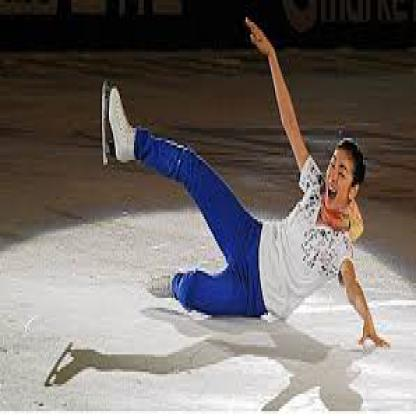Fall_Down: (108, 21, 395, 352)
